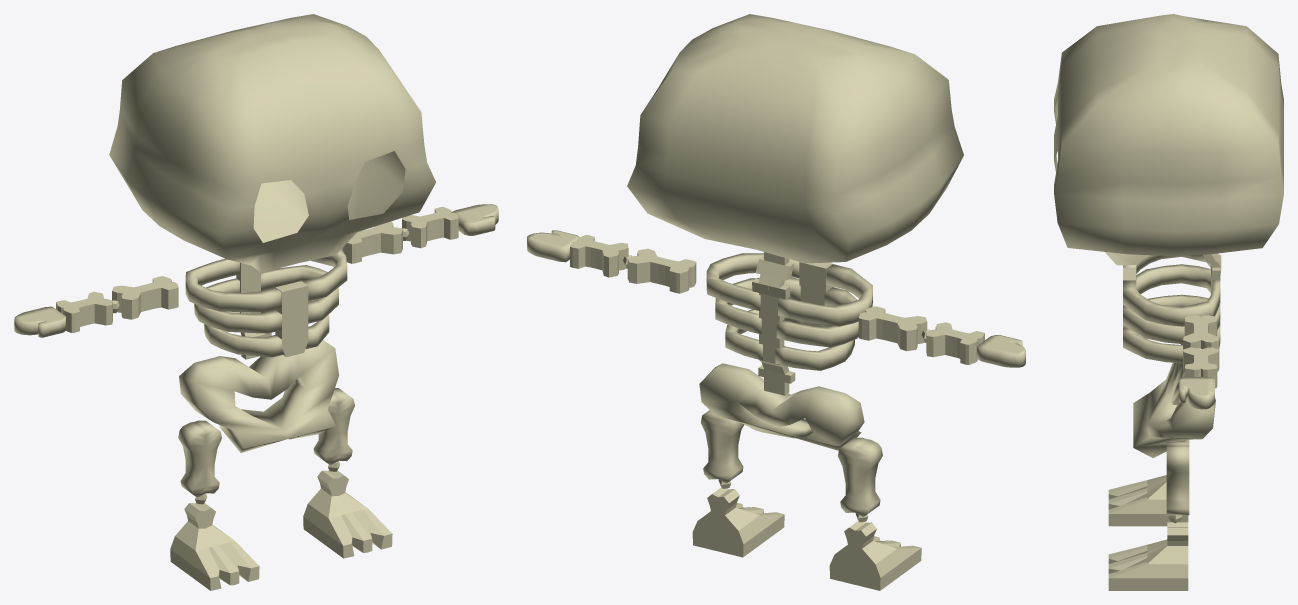
File: calaveraCabezaPequena.fbx
3 renders of one model, left to right at view 1: azimuth 30°, elevation 25°; view 2: azimuth 150°, elevation 25°; view 3: azimuth 270°, elevation 25°, orthographic. The views are drawn at different scales.
Parts seen in each view (by area): view 1: Skeleton; view 2: Skeleton; view 3: Skeleton.
Part boxes in pixels (x1=…): Skeleton: x1=14, y1=14, x2=498, y2=590; Skeleton: x1=527, y1=14, x2=1025, y2=590; Skeleton: x1=1054, y1=14, x2=1283, y2=590.
Size of the model in its own units: 566 by 574 by 235.
